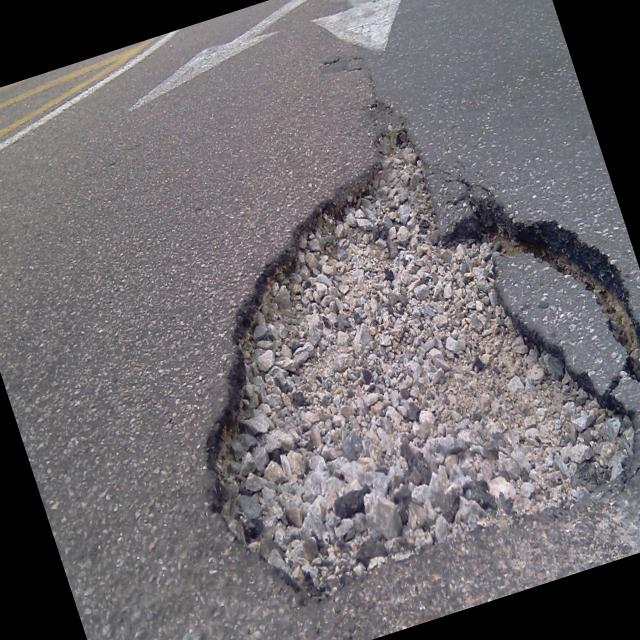Potholes: (96, 40, 640, 640)
